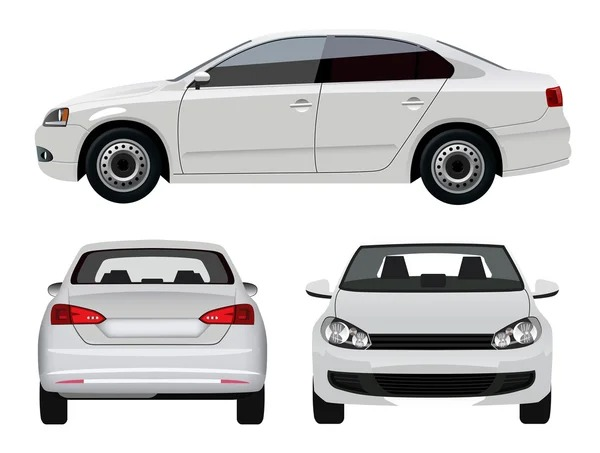car: (12, 42, 586, 355), (35, 34, 578, 205), (55, 233, 460, 428), (302, 237, 553, 428), (36, 241, 262, 423)
